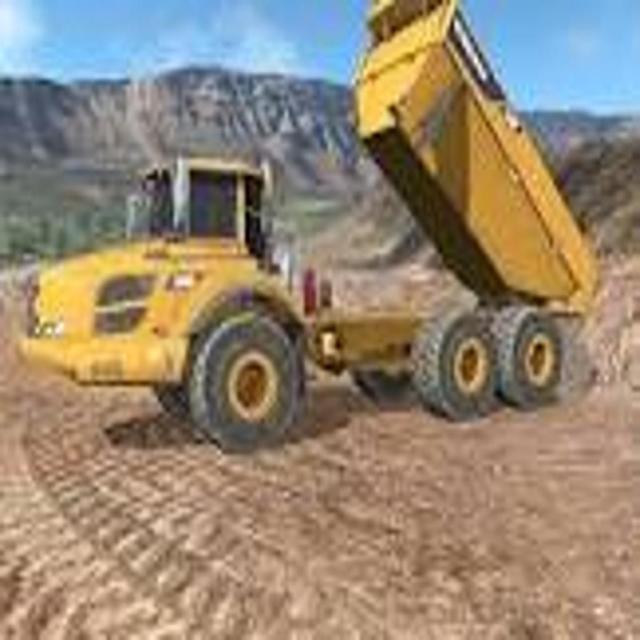dump_truck: (20, 0, 602, 453)
